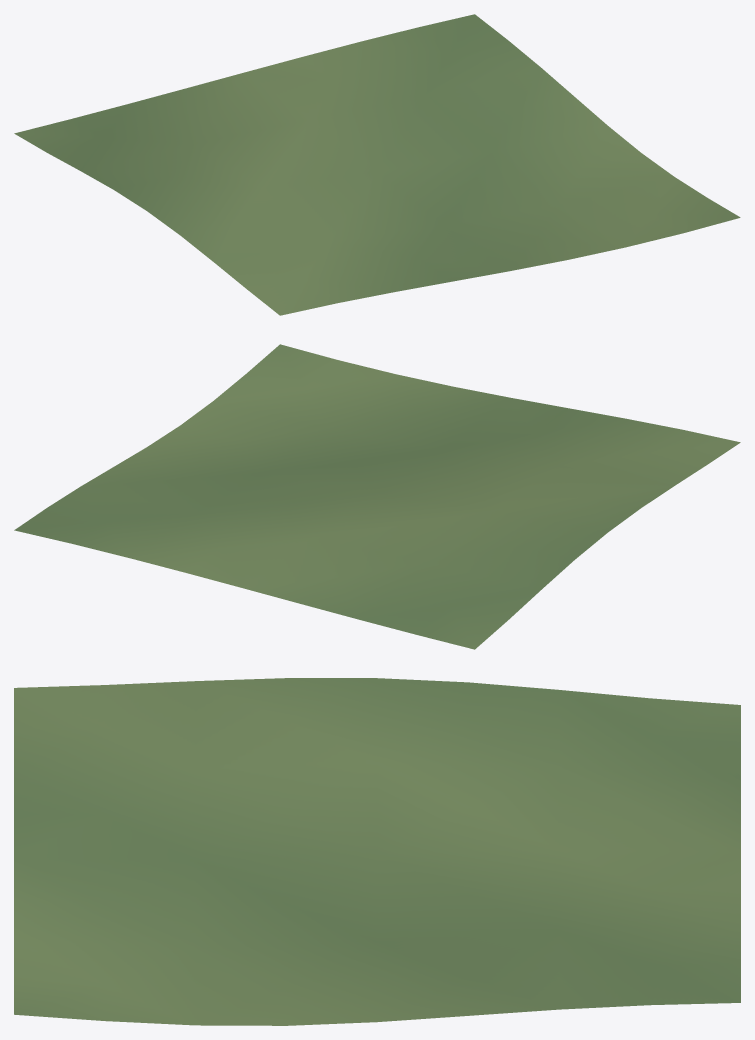
Rendered from Terrain-0-2-2.glb.
3 views of the same model, one above another, from view 1: azimuth 30°, elevation 25°; view 2: azimuth 150°, elevation 25°; view 3: azimuth 270°, elevation 25° (orthographic). The views are drawn at different scales.
Visible parts, largest first — view 1: Terrain-0-2-2; view 2: Terrain-0-2-2; view 3: Terrain-0-2-2.
Boxes of the visible parts, <box> form: Terrain-0-2-2: <box>14,14,740,315</box>; Terrain-0-2-2: <box>14,344,740,649</box>; Terrain-0-2-2: <box>14,678,740,1025</box>.
Bounding box in the file's own units: 6 × 0.3739 × 6.
